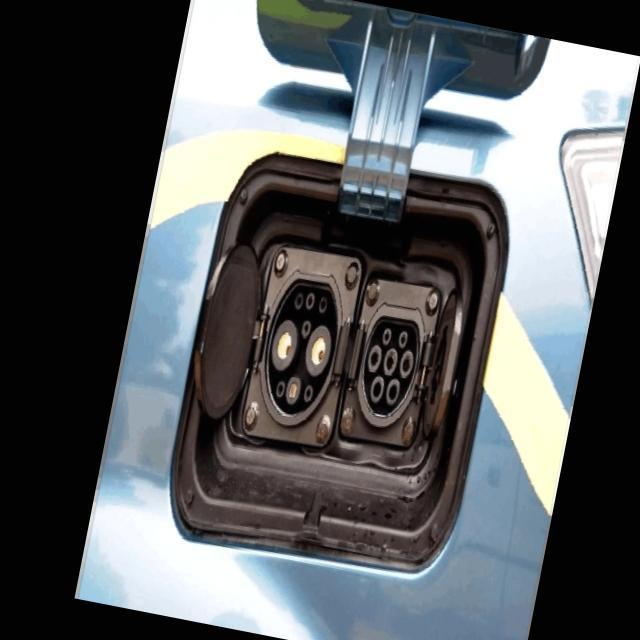GB-T: (240, 255, 370, 434)
